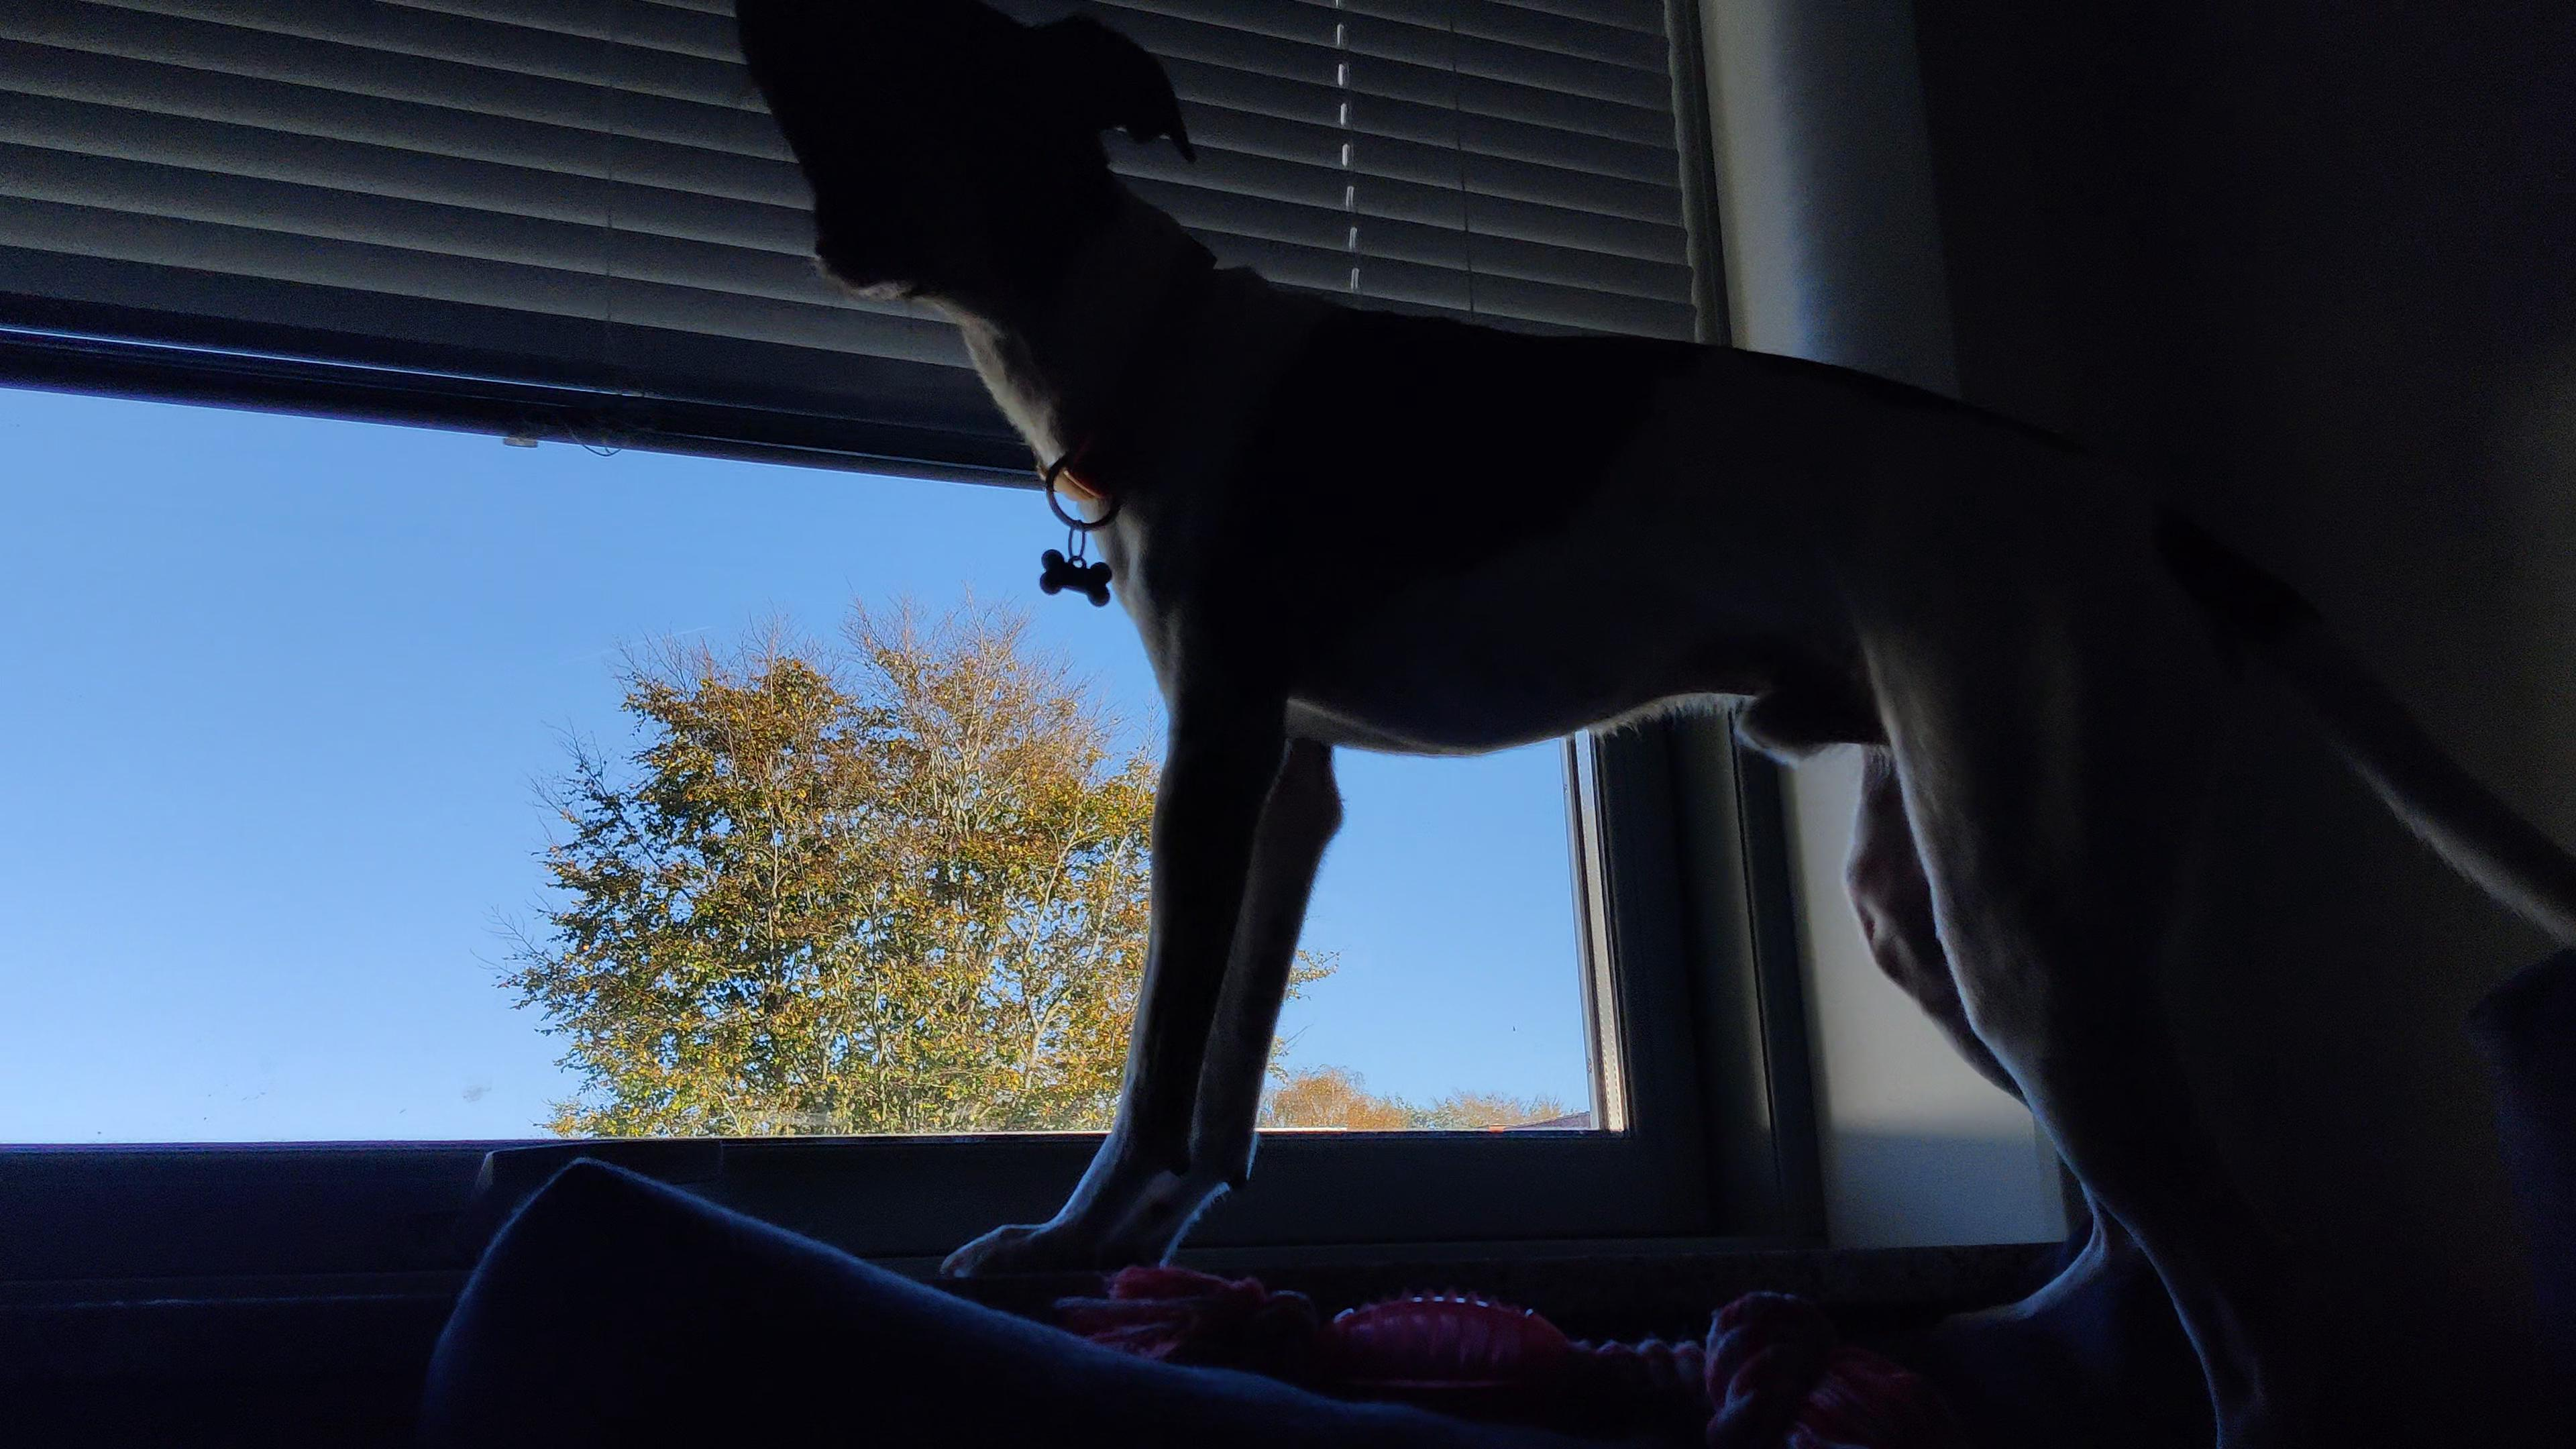Dog: (711, 0, 2576, 1449)
